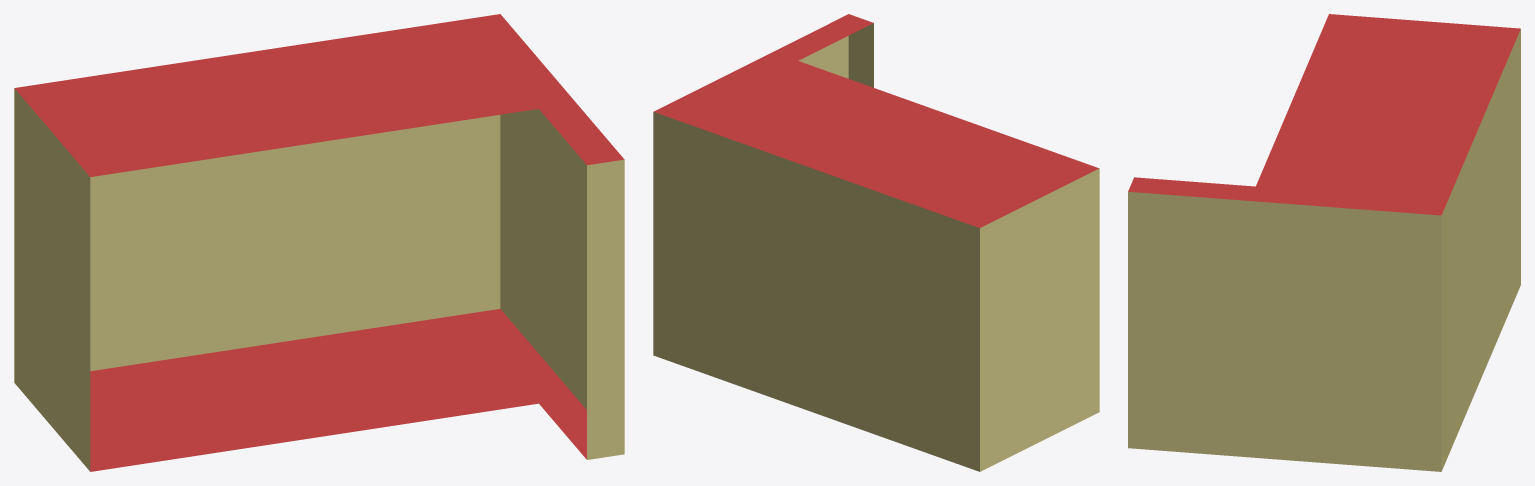
3 renders of one model, left to right at view 1: azimuth 30°, elevation 25°; view 2: azimuth 150°, elevation 25°; view 3: azimuth 270°, elevation 25°, orthographic. The views are drawn at different scales.
Size of the model in its own units: 10.29 by 8.48 by 6.1.
